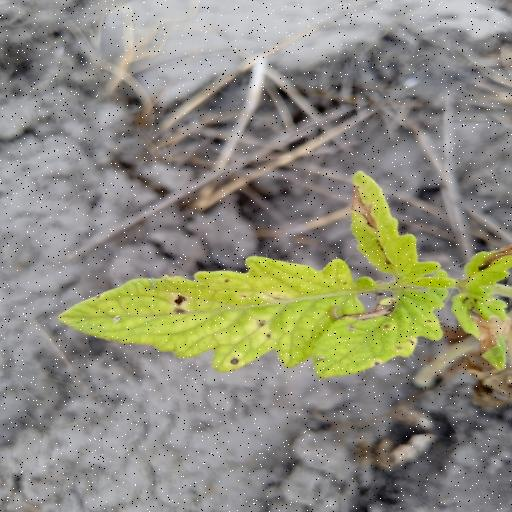Tomato_Brown_Spots: (55, 250, 371, 374), (345, 168, 425, 277)
